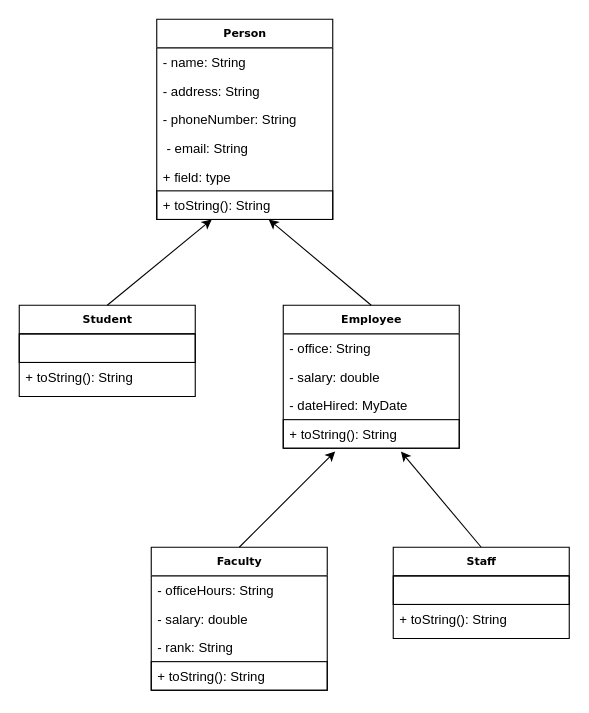
This 589x713 diagram has some shape labels left out. The centre of each missing label's shape, as x and y in pixels:
- status: int: the point at 106,347
- title: String: the point at 480,589
